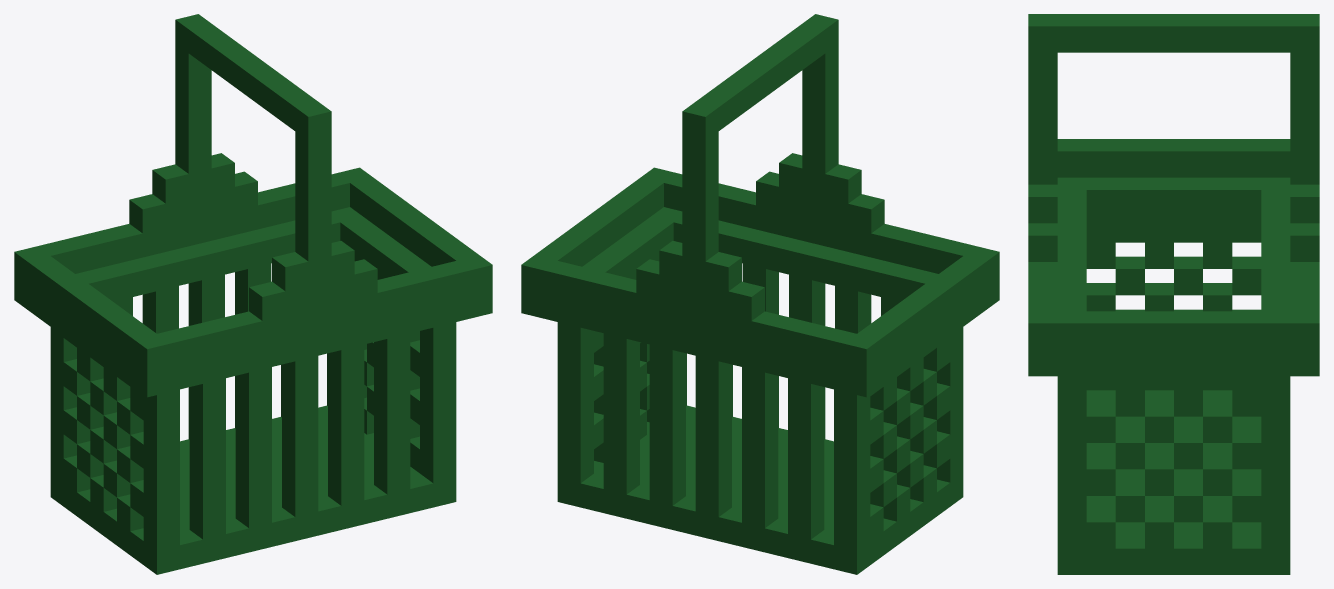
Rendered from corob_afra.obj.
3 views of the same model, side by side, from view 1: azimuth 30°, elevation 25°; view 2: azimuth 150°, elevation 25°; view 3: azimuth 270°, elevation 25° (orthographic). The views are drawn at different scales.
Size of the model in its own units: 1.5 by 1.8 by 1.
